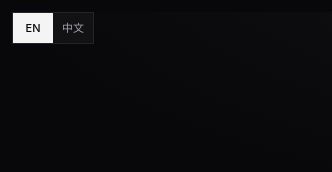
ui primitives › LangSwitch 点击立即同步高亮与语言
Click the button "中文": (73, 28) [53,13,93,43]
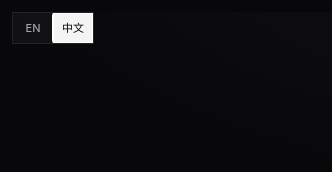
Now the button "中文" has class "bg-[var(--accent)]", box [53,13,93,43]
